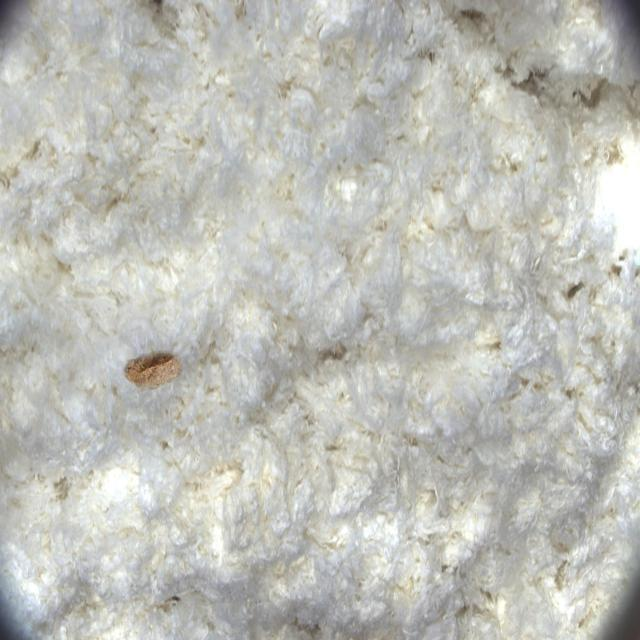dust: (99, 316, 199, 426)
